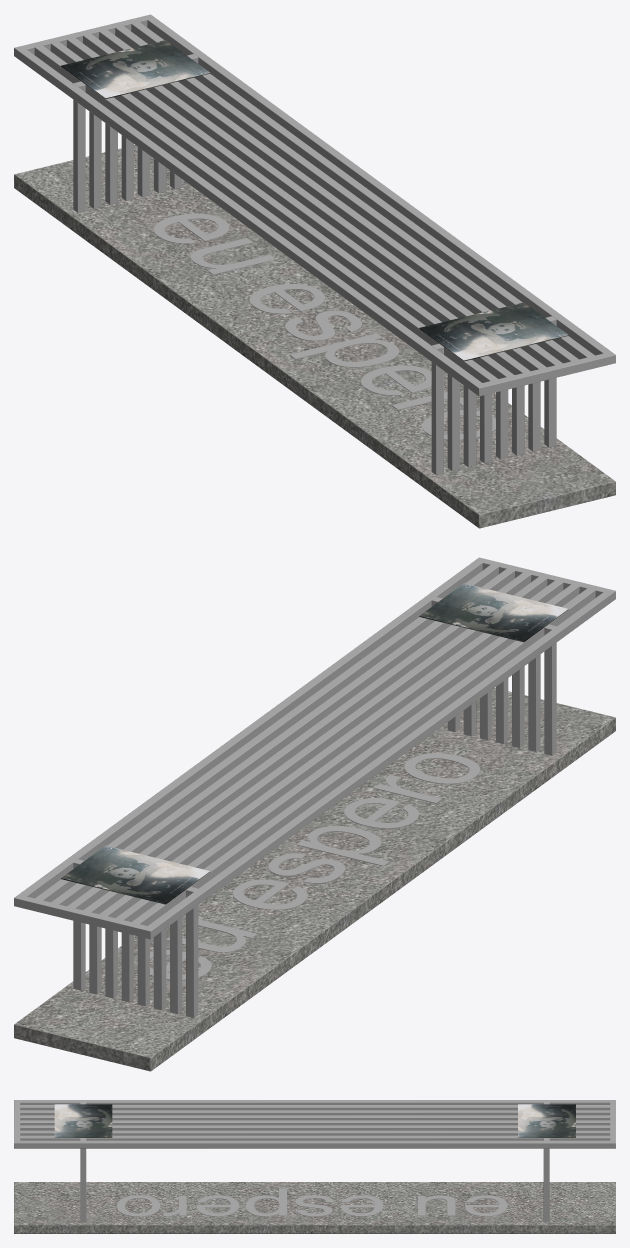
Rendered from preview.glb.
3 views of the same model, one above another, from view 1: azimuth 30°, elevation 25°; view 2: azimuth 150°, elevation 25°; view 3: azimuth 270°, elevation 25° (orthographic). The views are drawn at different scales.
Parts seen in each view (by area): view 1: Material2 (×3); view 2: Material2 (×3); view 3: Material2 (×3).
Part boxes in pixels (x1,y1,x2,y2): Material2 (×3): [14, 14, 615, 528]; Material2 (×3): [14, 557, 615, 1071]; Material2 (×3): [14, 1100, 615, 1233].
Size of the model in its own units: 20.07 by 19.8 by 118.
Materials: 3 (2 with a texture image).
